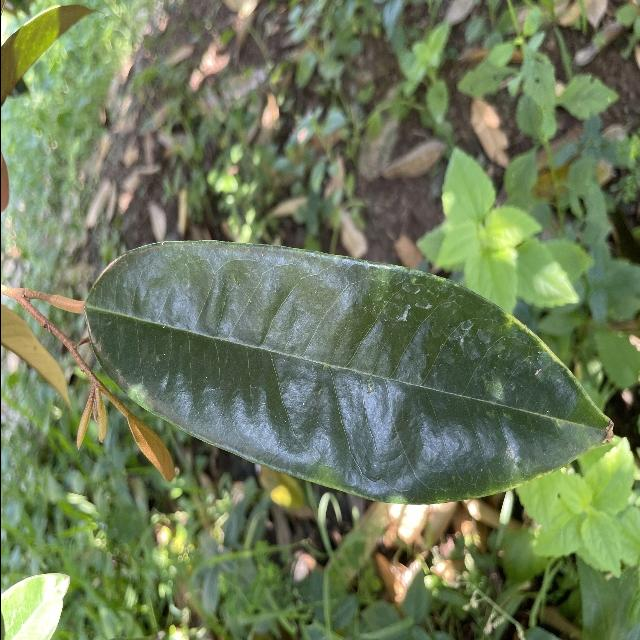No Disease: (65, 230, 619, 513)
